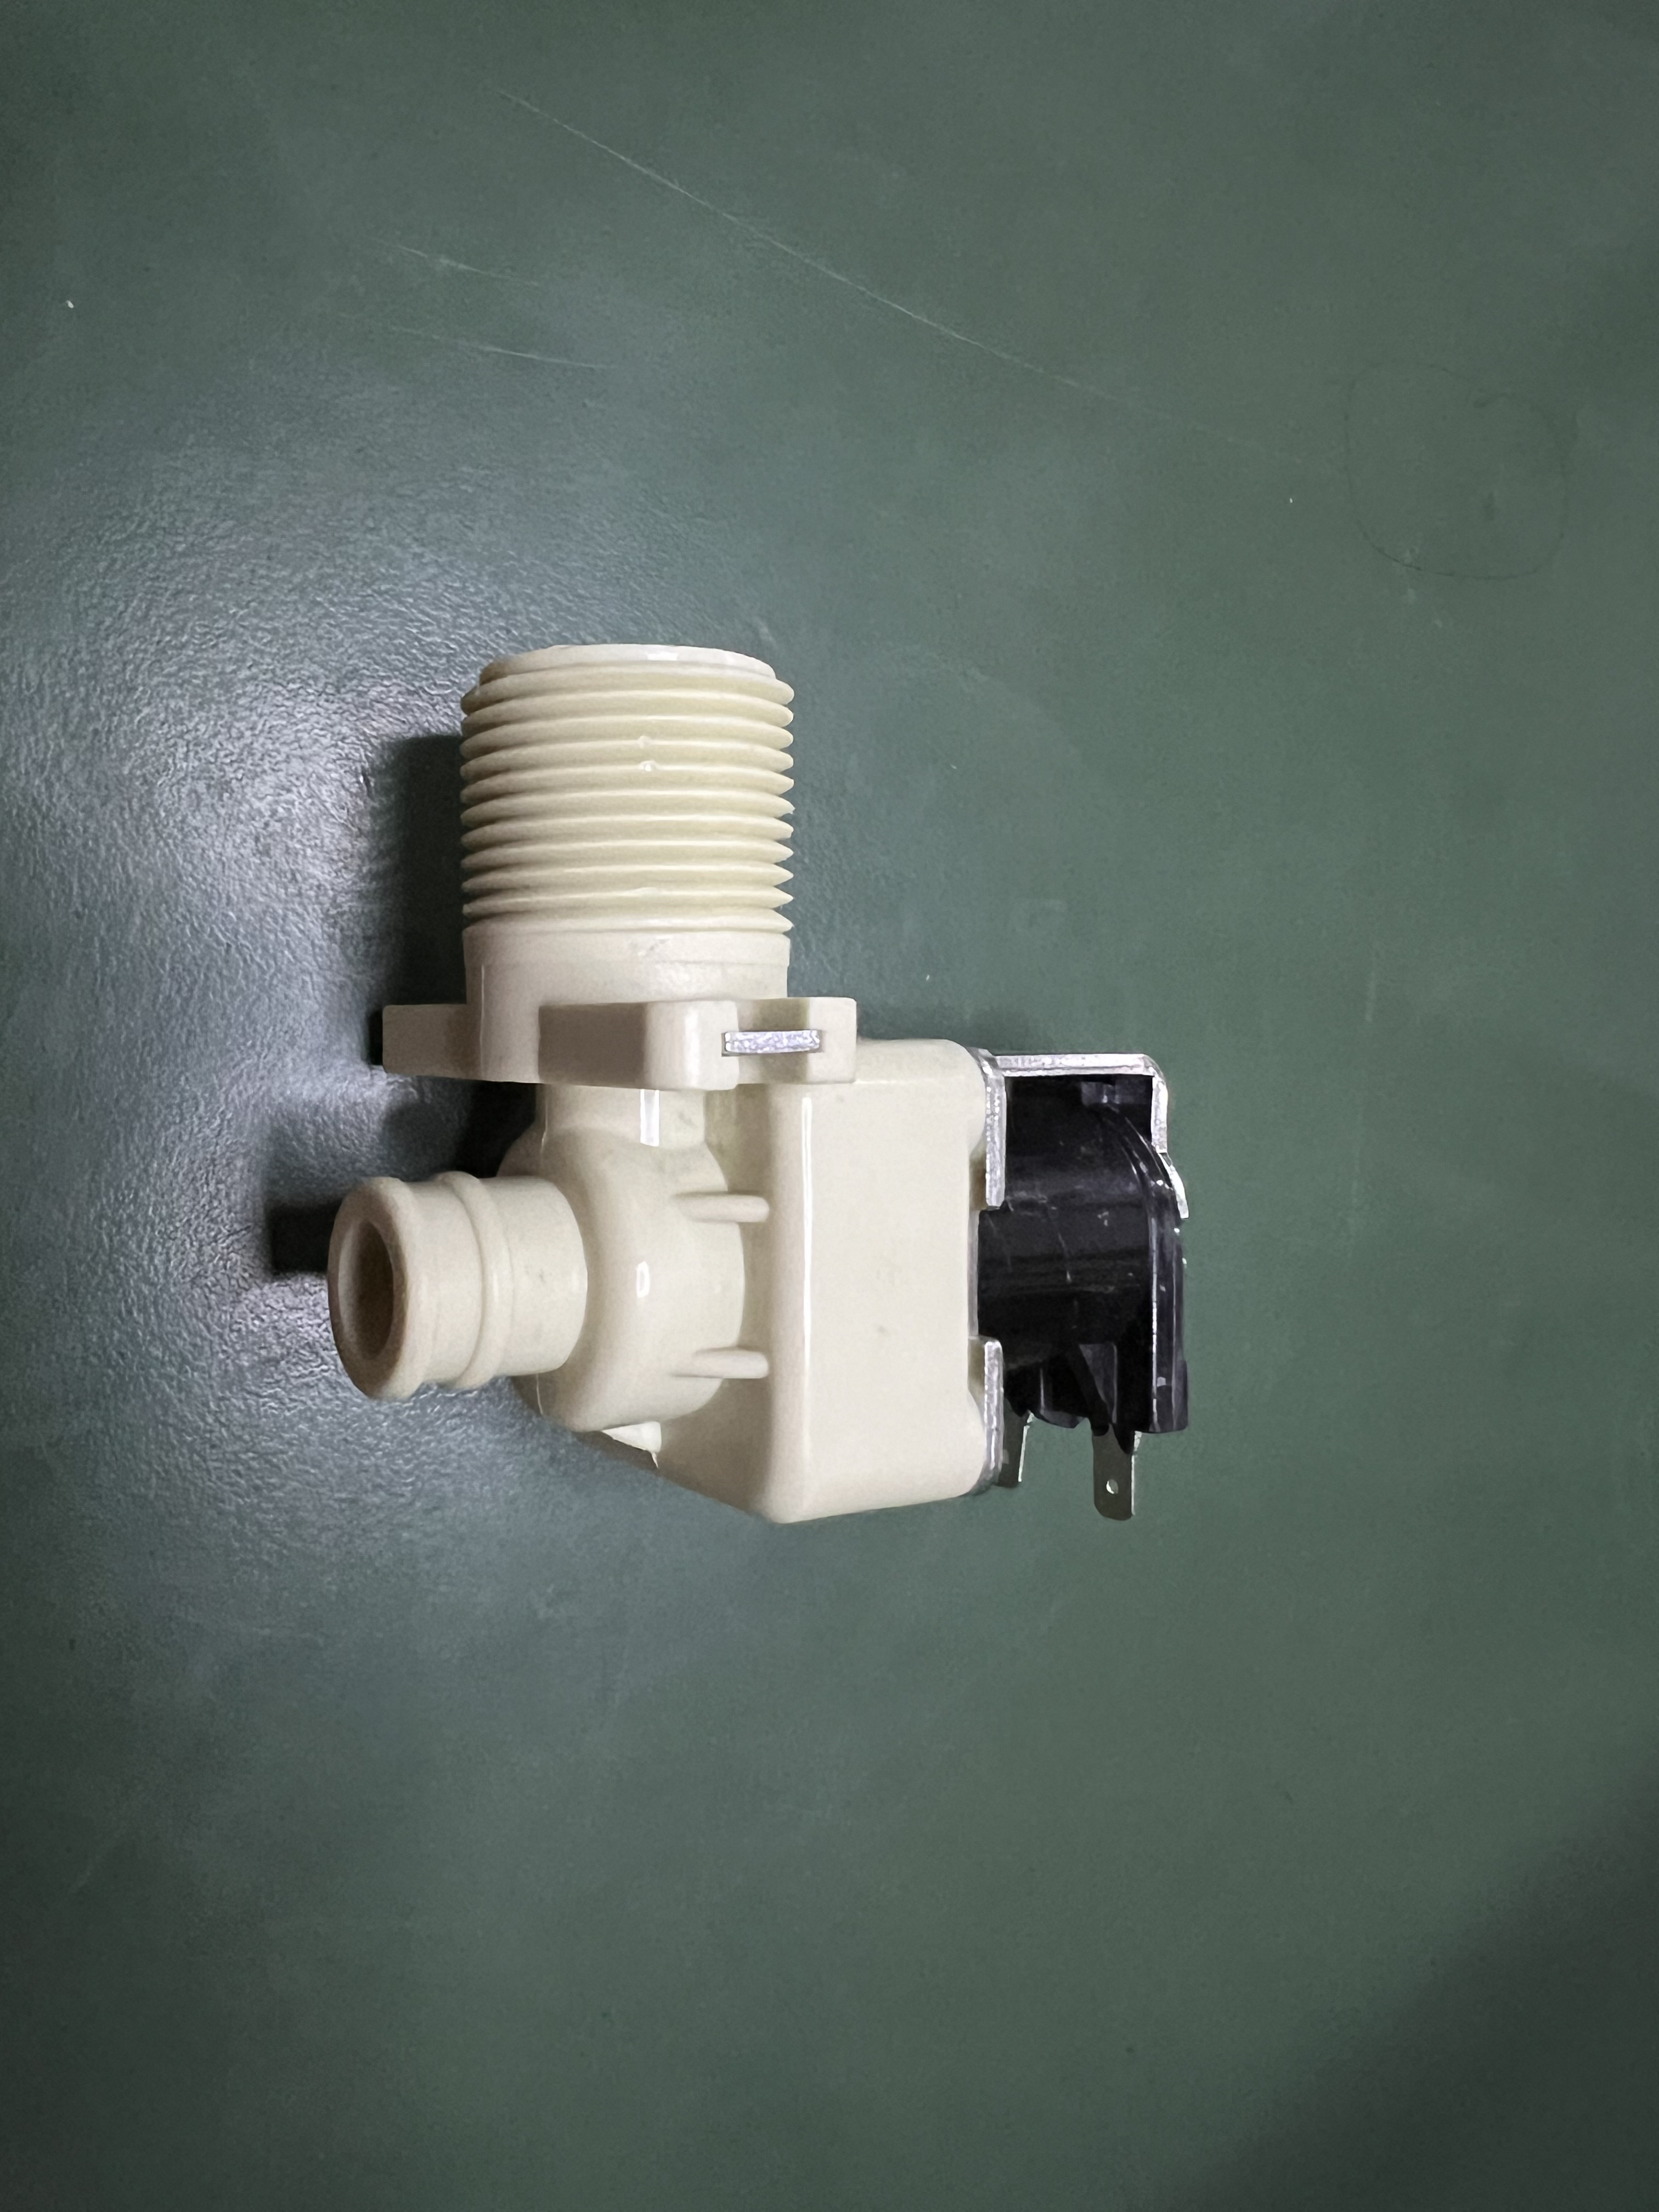godrej_inlet_valves: (371, 637, 1206, 1573)
